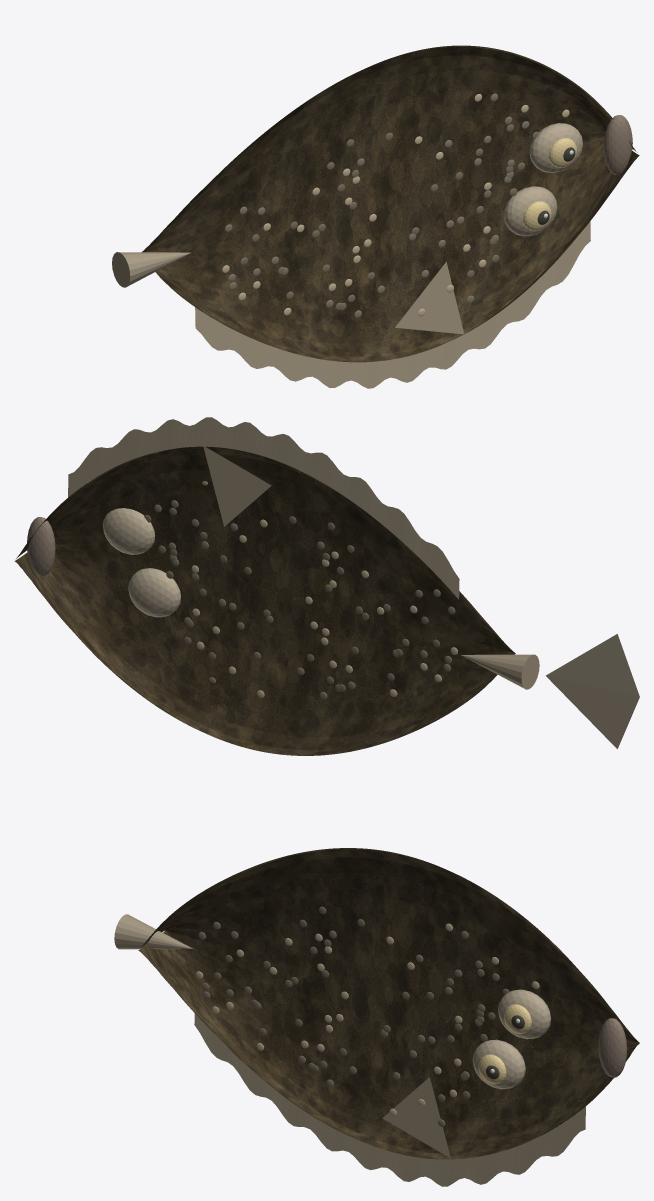
Rendered from Ikan_Sebelah.glb.
The picture shows the model from 3 angles, top to bottom: view 1: azimuth 30°, elevation 25°; view 2: azimuth 150°, elevation 25°; view 3: azimuth 330°, elevation 25°; orthographic projection.
Parts seen in each view (by area): view 1: fish; view 2: fish; view 3: fish.
Boxes of the visible parts, x1,y1,x2,y2 form: fish: [112, 45, 639, 388]; fish: [14, 417, 639, 755]; fish: [114, 848, 639, 1186].
Bounding box in the file's own units: 4.09 × 2.29 × 0.4815.
1 material, 1 textured.
